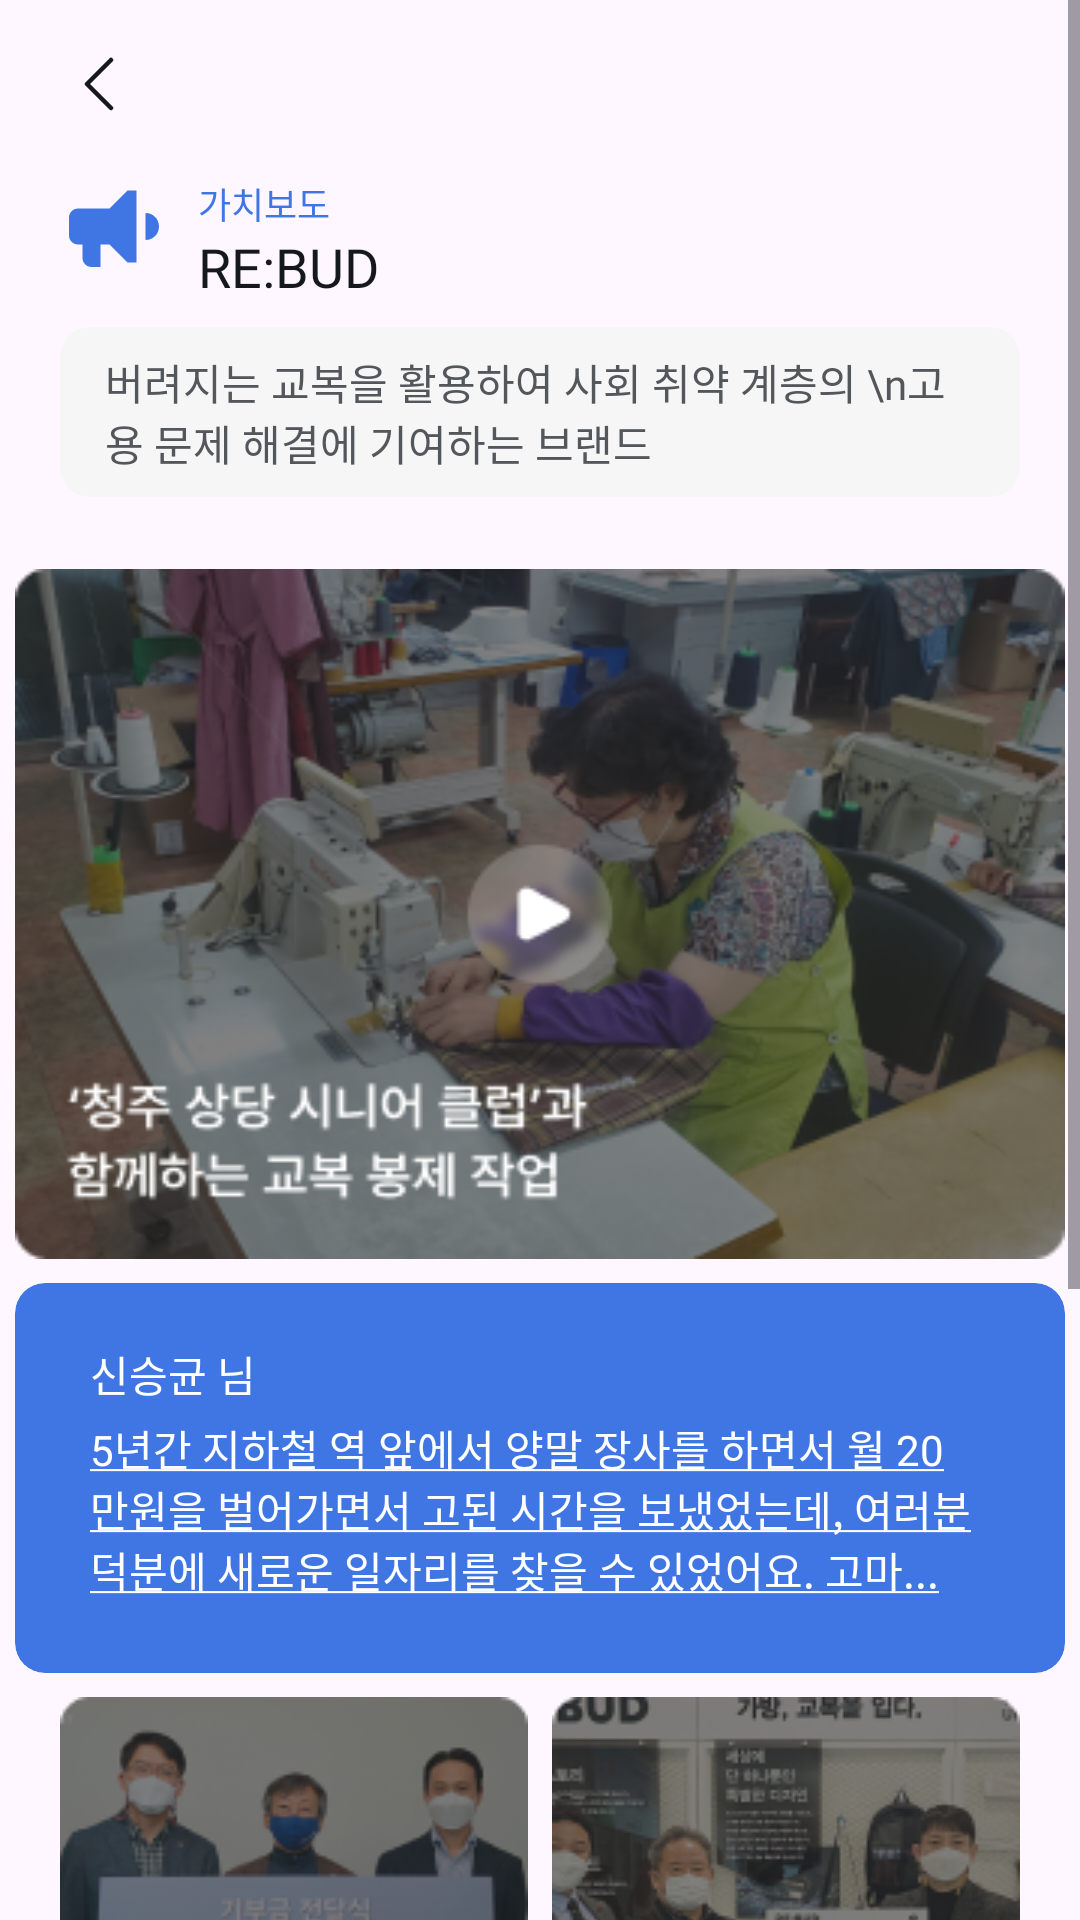

Where to tap for icons on this 1080×1920 app screen, as (x=x, y=y):
back: (x=99, y=84)
speaker: (x=114, y=228)
